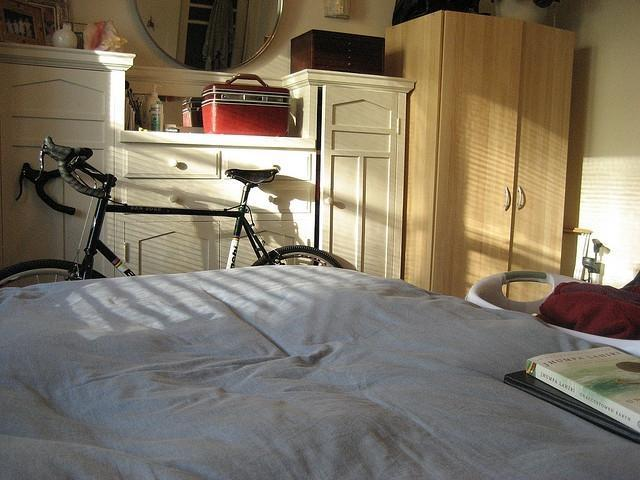bicycle: (3, 152, 335, 292)
